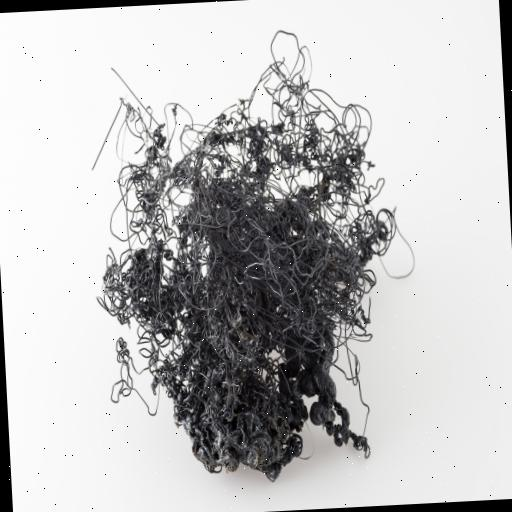spaghetti: (85, 20, 429, 492)
